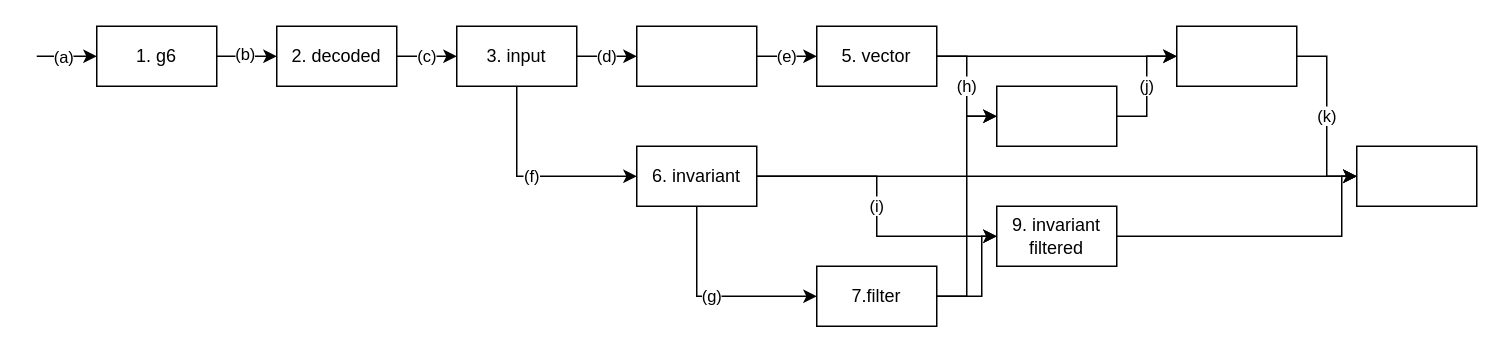
This 1503x353 diagram has some shape labels left out. The shapes that lost their labels are listed below. From the top down, each one's centre as x and y in pixels, then its label:
At pixel 696 55: "4. output".
At pixel 1236 55: "10. mapped".
At pixel 1056 115: "8. vector filtered".
At pixel 1416 175: "11. visual".
